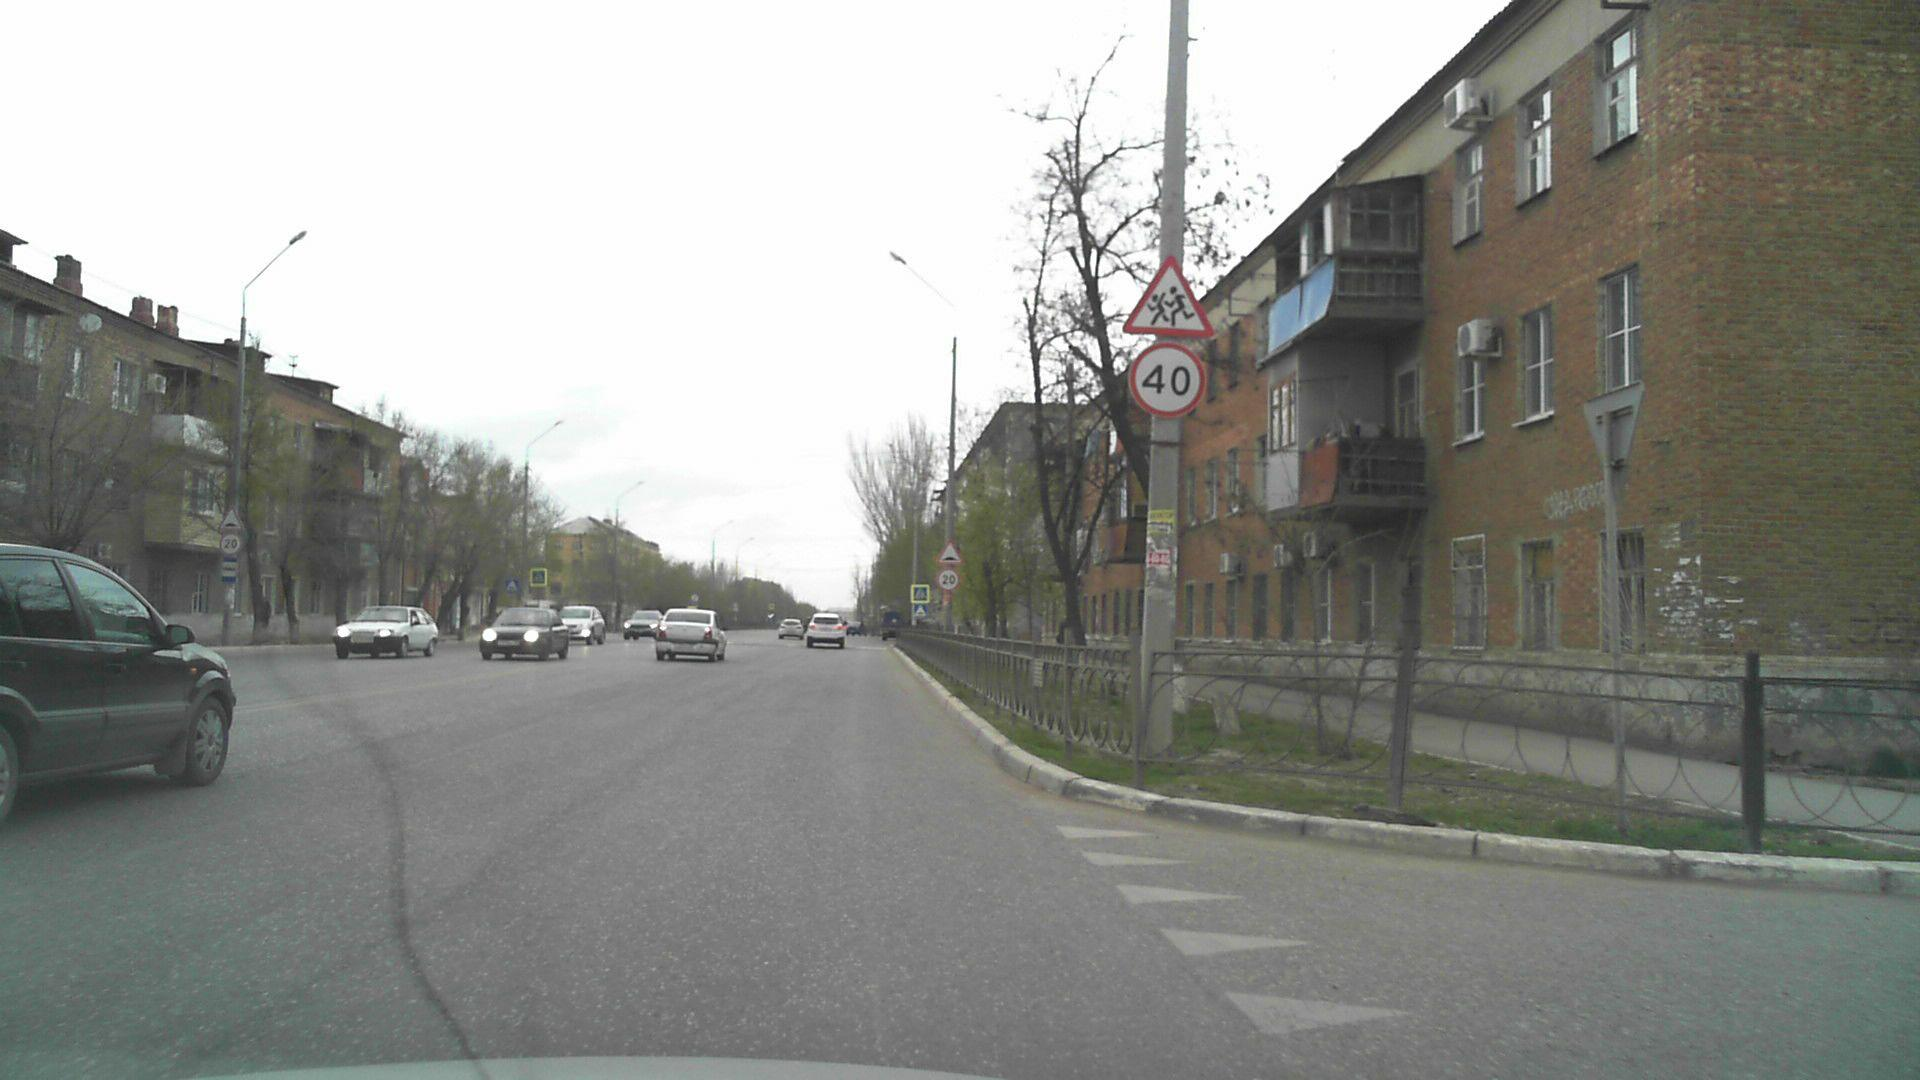1_17: (936, 539, 961, 566), (218, 505, 244, 530)
1_23: (1121, 252, 1217, 338)
3_24: (1129, 338, 1205, 421), (938, 568, 963, 591), (219, 531, 241, 555)
5_16: (220, 558, 239, 582)
5_19_1: (909, 582, 930, 604)
5_19_2: (533, 570, 546, 585)
5_20: (504, 578, 518, 593), (913, 605, 927, 618)
